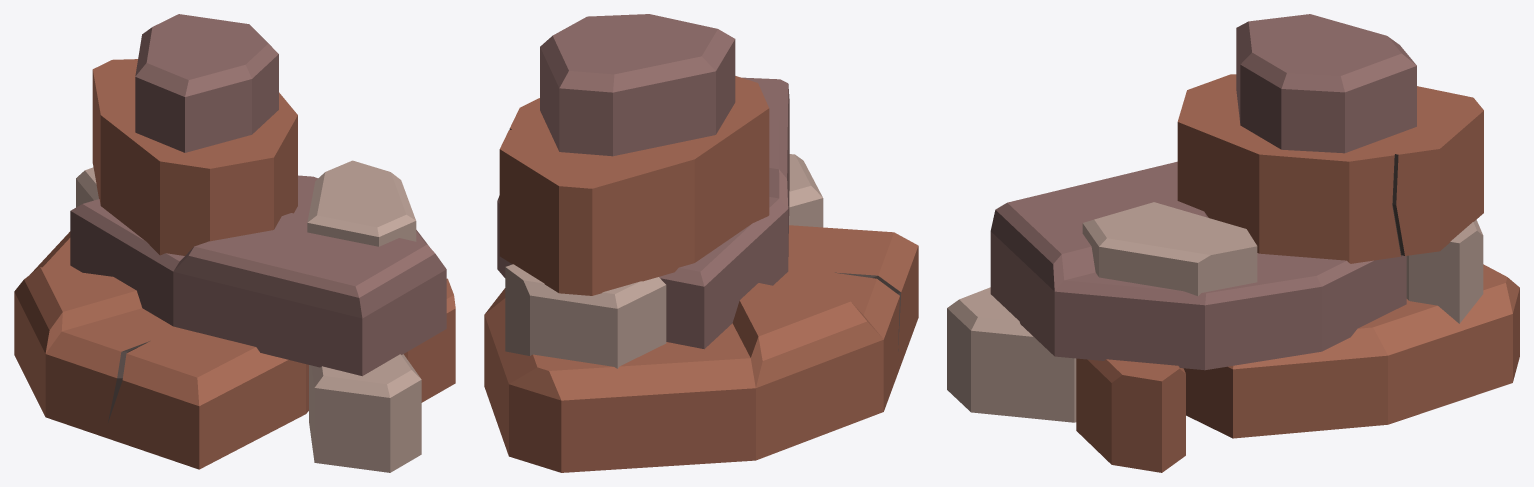
File: Rock_Type1_02.glb
3 renders of one model, left to right at view 1: azimuth 30°, elevation 25°; view 2: azimuth 150°, elevation 25°; view 3: azimuth 270°, elevation 25°, orthographic. The views are drawn at different scales.
Visible parts, largest first — view 1: Rock Type1 02 mesh; view 2: Rock Type1 02 mesh; view 3: Rock Type1 02 mesh.
Part boxes in pixels (x1,y1,x2,y2): Rock Type1 02 mesh: [14, 14, 455, 472]; Rock Type1 02 mesh: [484, 14, 918, 472]; Rock Type1 02 mesh: [947, 14, 1519, 472].
Bounding box in the file's own units: 1.92 × 1.55 × 2.4.
1 material, 1 textured.
